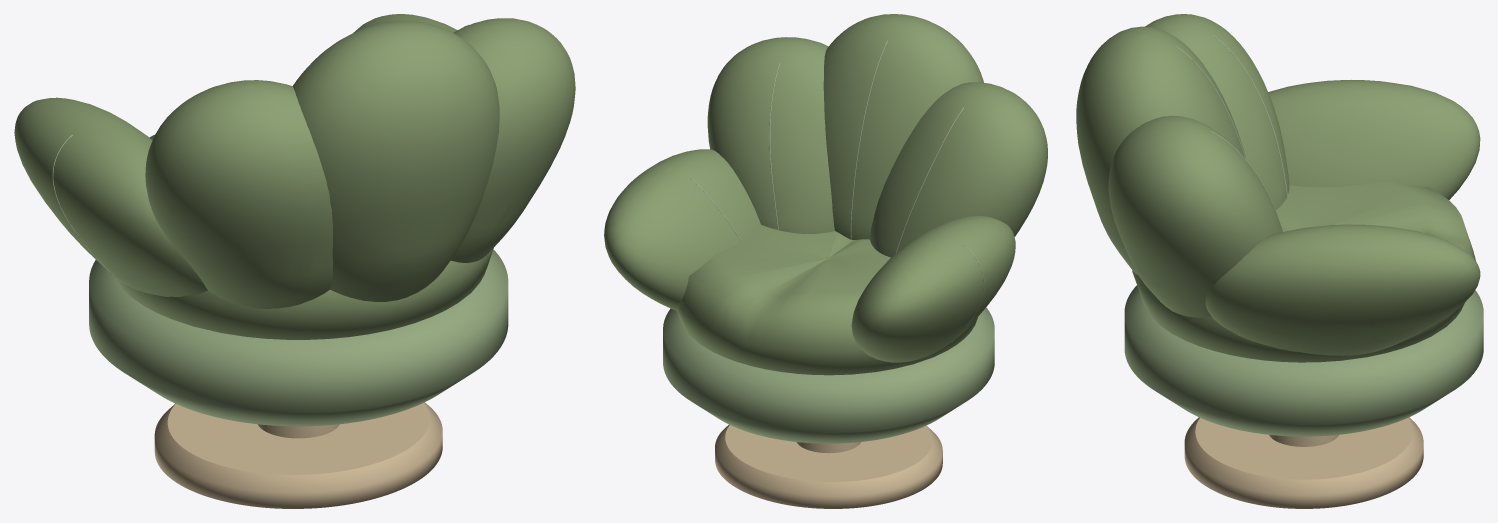
File: chair.glb
3 views of the same model, side by side, from view 1: azimuth 30°, elevation 25°; view 2: azimuth 150°, elevation 25°; view 3: azimuth 270°, elevation 25° (orthographic). The views are drawn at different scales.
Parts seen in each view (by area): view 1: part_000, part_011, part_002, part_012, part_004, part_007, part_013, part_006, part_009; view 2: part_013, part_011, part_000, part_002, part_007, part_004, part_009, part_012, part_006; view 3: part_009, part_011, part_007, part_004, part_012, part_000, part_013, part_002, part_006.
Part boxes in pixels (box(x1,y1,x2,y2)): part_000: box(293, 21, 499, 301); part_011: box(89, 249, 508, 426); part_002: box(145, 80, 332, 308); part_012: box(154, 402, 442, 508); part_004: box(14, 97, 207, 297); part_007: box(451, 18, 575, 262); part_013: box(114, 135, 493, 339); part_006: box(258, 424, 339, 438); part_009: box(353, 14, 457, 32); part_013: box(677, 225, 977, 375); part_011: box(663, 307, 994, 443); part_000: box(823, 14, 983, 239); part_002: box(869, 82, 1047, 257); part_007: box(707, 37, 834, 233); part_004: box(851, 215, 1015, 362); part_009: box(604, 149, 760, 310); part_012: box(715, 424, 942, 508); part_006: box(796, 442, 860, 453); part_009: box(1205, 224, 1480, 355); part_011: box(1124, 285, 1483, 436); part_007: box(1108, 115, 1282, 317); part_004: box(1268, 80, 1480, 199); part_012: box(1184, 417, 1423, 508); part_000: box(1076, 26, 1245, 274); part_013: box(1132, 181, 1475, 362); part_002: box(1145, 14, 1289, 209); part_006: box(1269, 435, 1338, 446).
Bounding box in the file's own units: 0.596 × 0.6406 × 0.5559.
